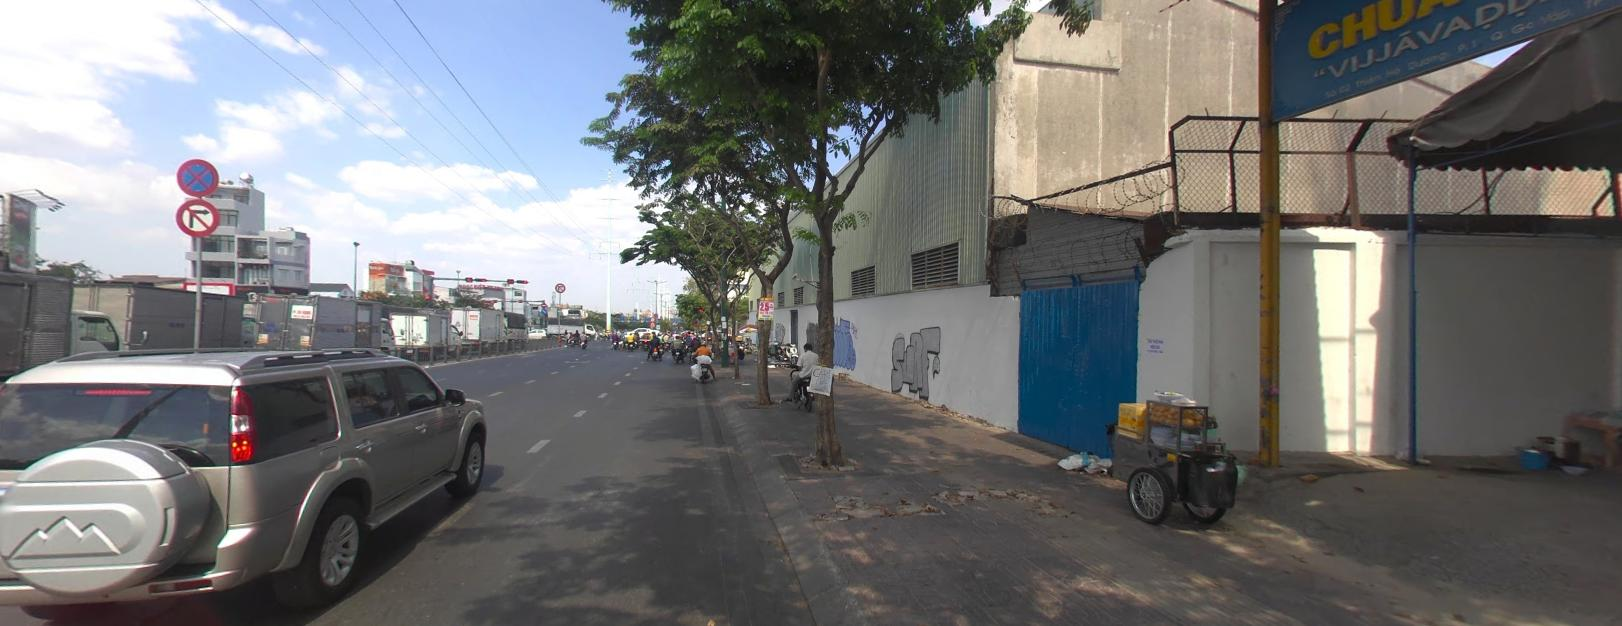Cam con lai: (650, 316, 655, 320)
Cam dung va do: (654, 311, 658, 315)
Cam nguoc chieu: (540, 301, 546, 305)
Cam re: (553, 281, 565, 291)
Hieu lenh: (539, 307, 546, 313)
